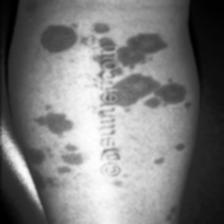Unclassified: (13, 0, 89, 185), (119, 18, 180, 128)
